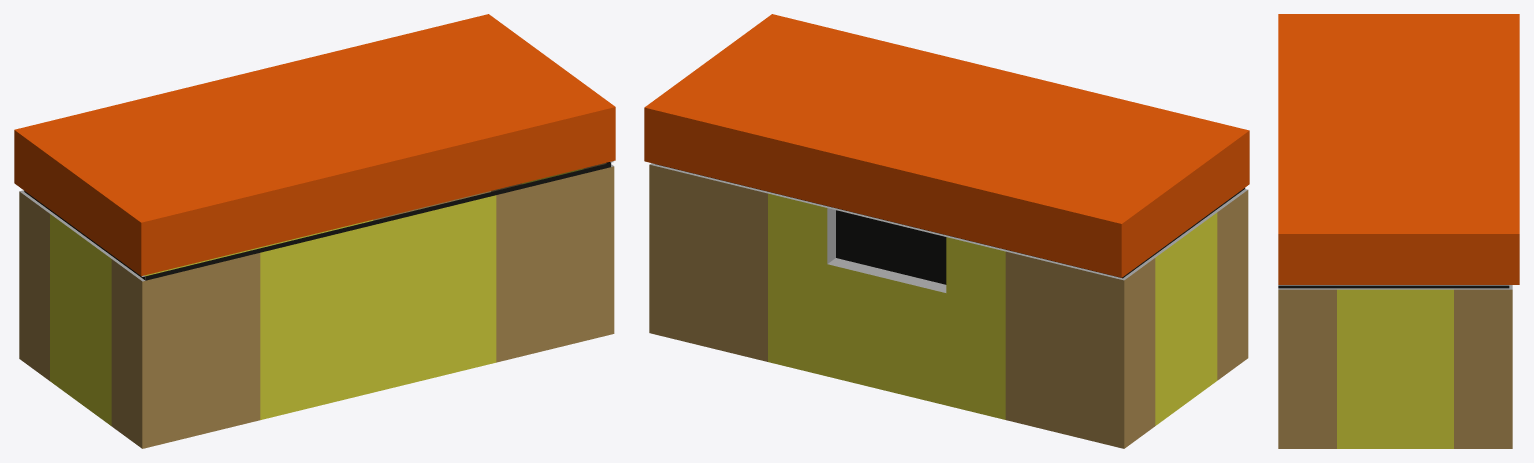
Rendered from Tacklebox.fbx.
3 renders of one model, left to right at view 1: azimuth 30°, elevation 25°; view 2: azimuth 150°, elevation 25°; view 3: azimuth 270°, elevation 25°, orthographic. The views are drawn at different scales.
Visible parts, largest first — view 1: pCube1, pCube2; view 2: pCube1, pCube2; view 3: pCube2, pCube1.
Part boxes in pixels (x1,y1,x2,y2): pCube1: [19, 161, 614, 448]; pCube2: [14, 14, 615, 276]; pCube1: [649, 163, 1248, 448]; pCube2: [644, 14, 1249, 277]; pCube2: [1278, 14, 1519, 284]; pCube1: [1278, 285, 1512, 448].
Size of the model in its own units: 7.51 by 3.43 by 3.48.
